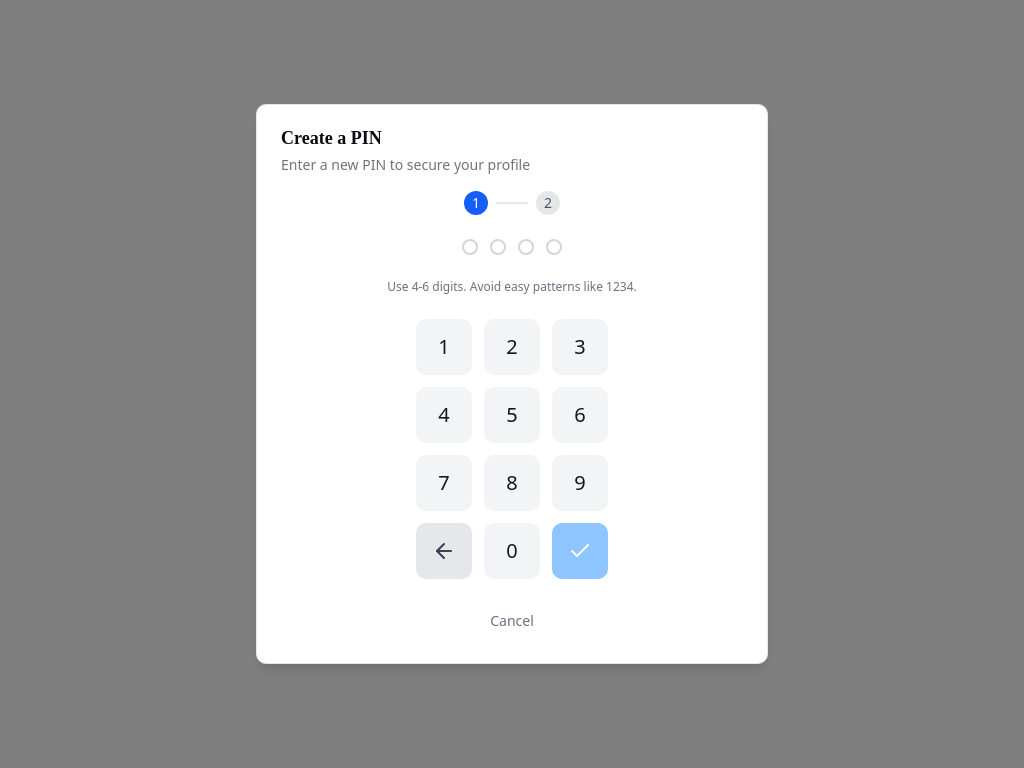
Test: PinSetupModal › step 1 - create PIN › enables Next button when 4+ digits entered
Click the button "1" at [444, 347], box [416,319,472,375]
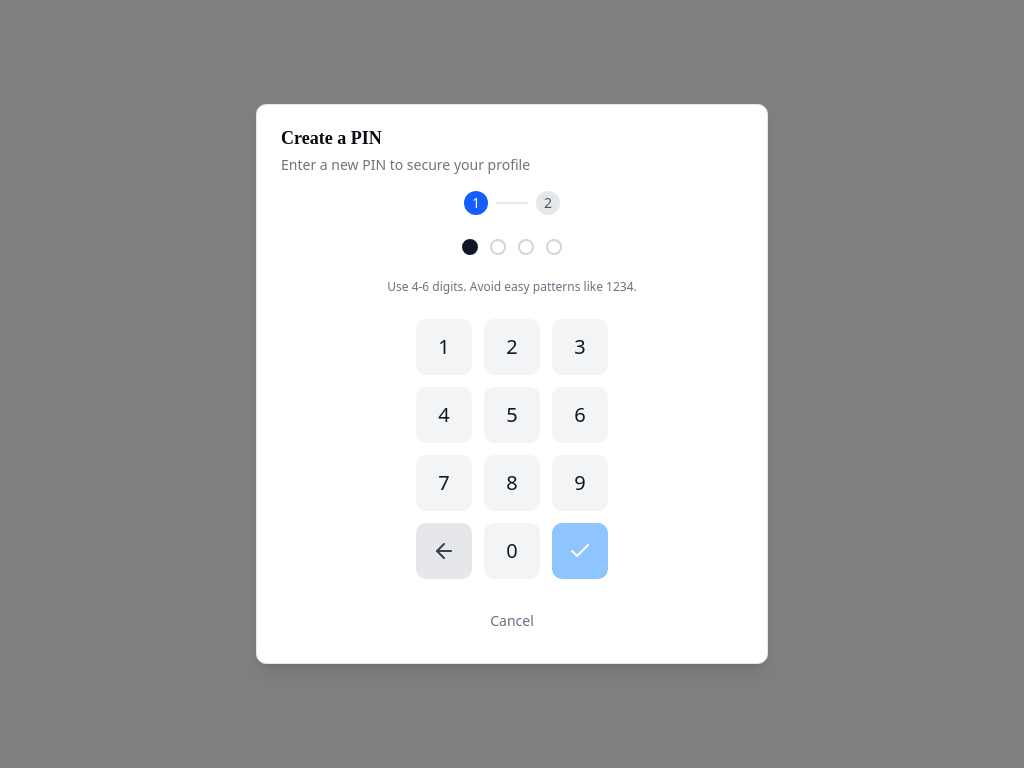
Click the button "2" at [512, 347], box [484,319,540,375]
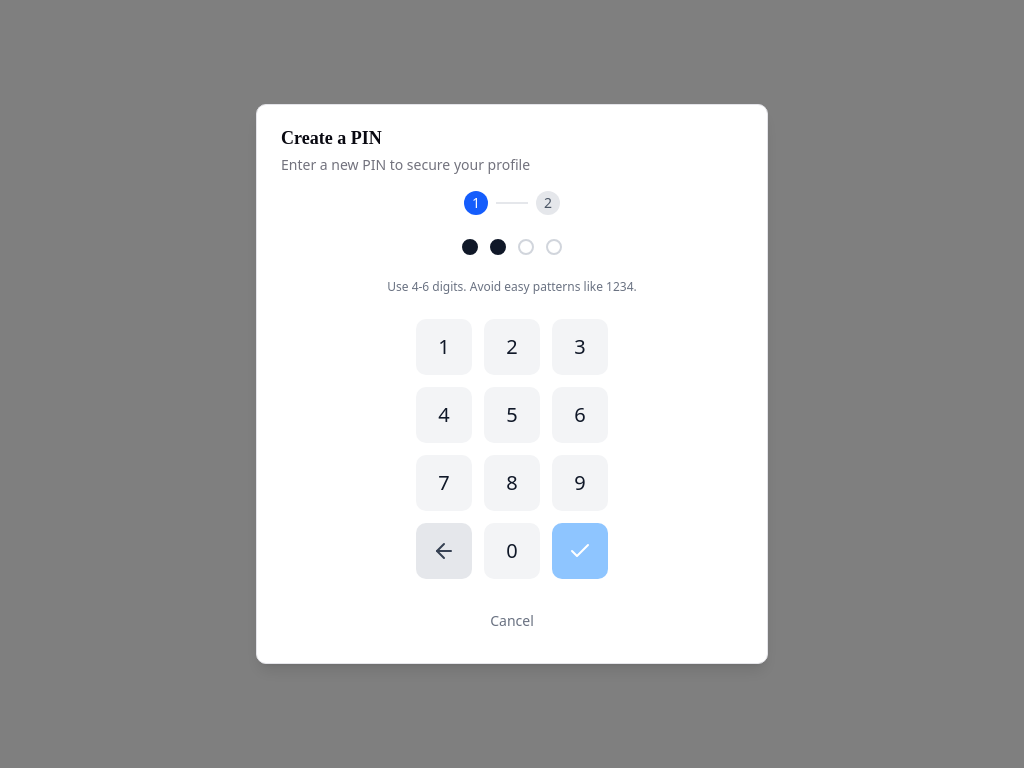
Click the button "3" at [580, 347], box [552,319,608,375]
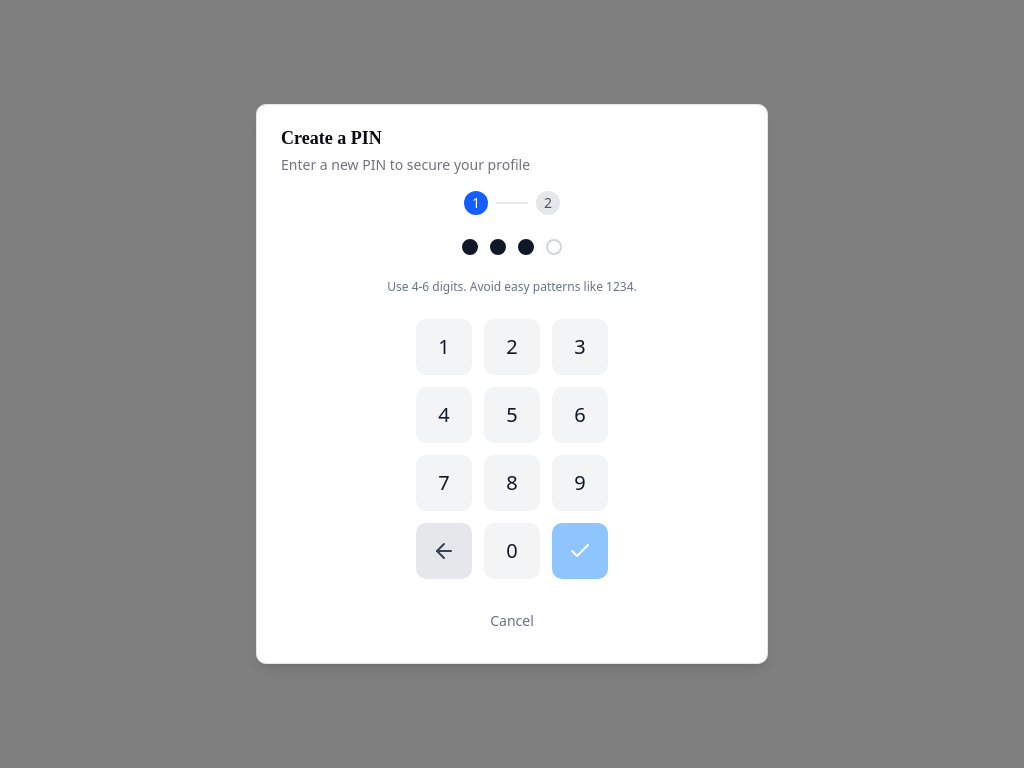
Click the button "4" at [444, 415], box [416,387,472,443]
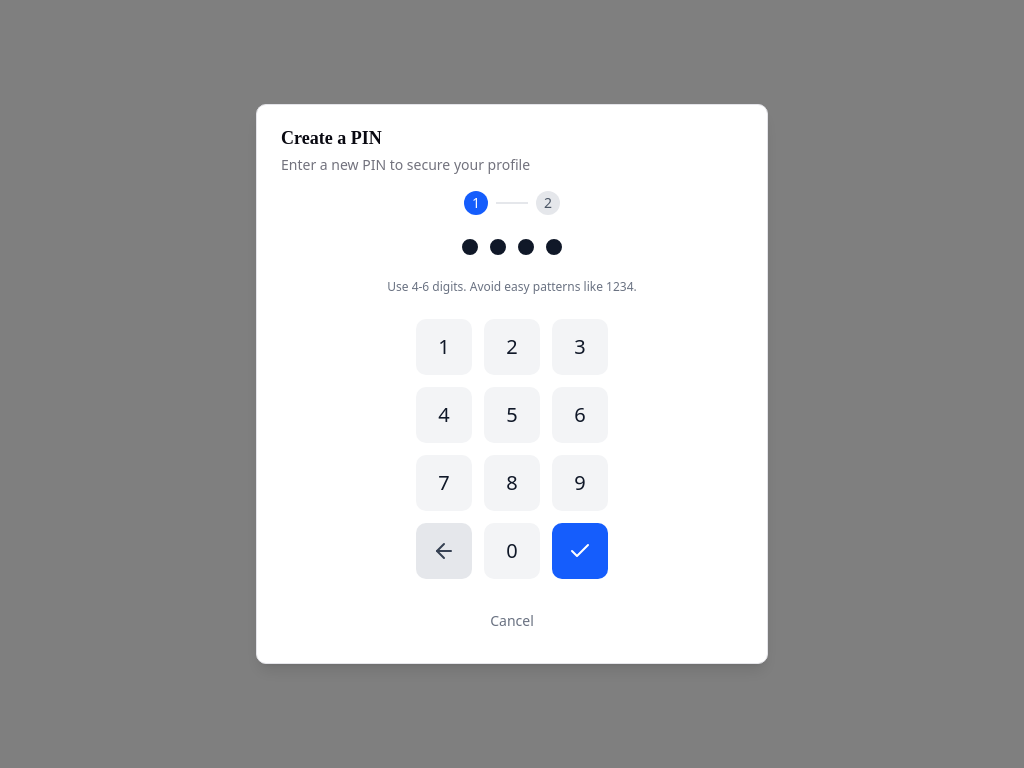
Expected: the button named "submit" is enabled, [552,523,608,579]
